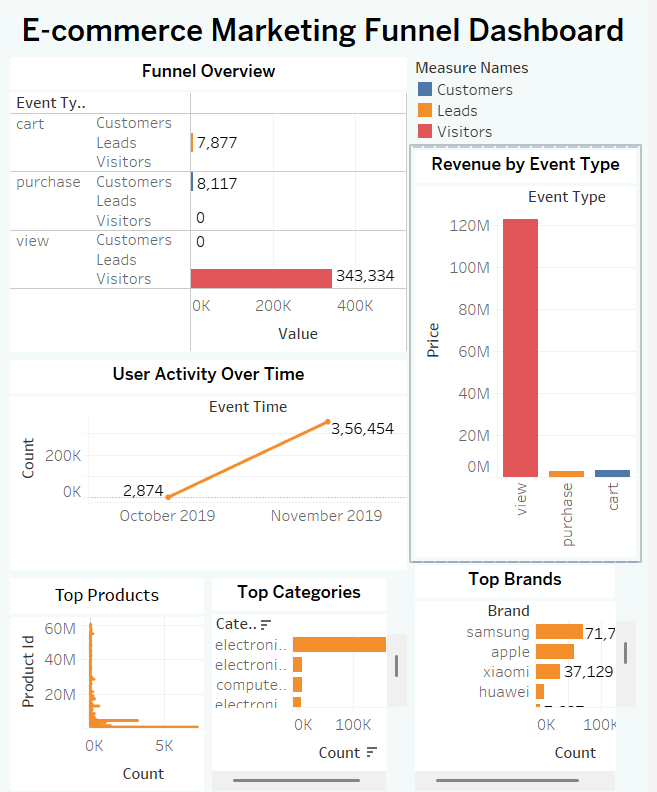

Layout of this report page (visuals, bound fields, positions):
{"tool":"tableau","page":{"name":"Dashboard 1","canvas":[650,860],"ordinal":0},"visuals":[{"type":"title","box":[8,8.6,634,47.2]},{"type":"worksheet","title":"Funnel Overview","mark":"Bar","rows":["event_type"],"box":[8,55.8,405,324.9]},{"type":"legend","title":"Funnel Overview","param":"[federated.18amtnz18emx901bx42g206c2ey3].[:Measure Names]","box":[413,55.8,229,99.7]},{"type":"worksheet","title":"Revenue by Event Type","mark":"Automatic","rows":["price"],"cols":["event_type"],"box":[413,155.5,229,445]},{"type":"worksheet","title":"User Activity Over Time","mark":"Automatic","rows":["Calculation_1217379330634047513"],"cols":["event_time"],"box":[8,380.7,405,233.8]},{"type":"worksheet","title":"Top Brands","mark":"Automatic","rows":["brand"],"cols":["Calculation_1217379330634047513"],"box":[413,600.5,229,250.9]},{"type":"worksheet","title":"Top Products","mark":"Automatic","rows":["product_id"],"cols":["Calculation_1217379330634047513"],"box":[8,614.5,202.5,236.9]},{"type":"worksheet","title":"Top Categories","mark":"Automatic","rows":["category_code"],"cols":["Calculation_1217379330634047513"],"box":[210.5,614.5,202.5,236.9]}]}

Visuals, with their boxes on the page's 650x860 design canvas (x1, y1, x2, y2). These are canvas units, not pixel positions in the 657x792 screenshot, which may show the page scaled, cropped or inside an application window:
title: left=8, top=9, right=642, bottom=56
"Funnel Overview" worksheet (Bar marks): left=8, top=56, right=413, bottom=381
"Funnel Overview" legend: left=413, top=56, right=642, bottom=156
"Revenue by Event Type" worksheet: left=413, top=156, right=642, bottom=600
"User Activity Over Time" worksheet: left=8, top=381, right=413, bottom=614
"Top Brands" worksheet: left=413, top=600, right=642, bottom=851
"Top Products" worksheet: left=8, top=614, right=210, bottom=851
"Top Categories" worksheet: left=210, top=614, right=413, bottom=851
